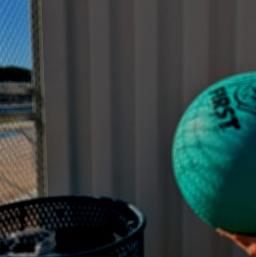algae: (172, 70, 256, 243)
